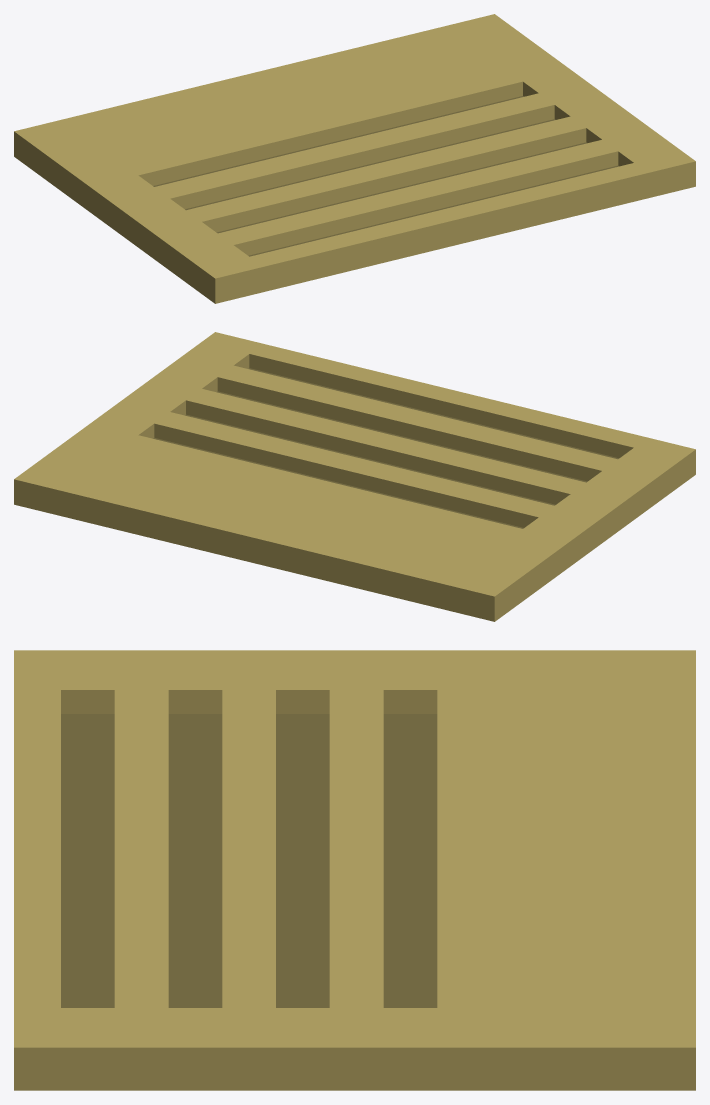
Rendered from Bar-BeerTap-base.fbx.
The picture shows the model from 3 angles, top to bottom: view 1: azimuth 30°, elevation 25°; view 2: azimuth 150°, elevation 25°; view 3: azimuth 270°, elevation 25°; orthographic projection. The views are drawn at different scales.
Parts seen in each view (by area): view 1: Beertaps_Base_Mid, Beertaps_Base_Right, Beertaps_Base_Left; view 2: Beertaps_Base_Mid, Beertaps_Base_Right, Beertaps_Base_Left; view 3: Beertaps_Base_Mid, Beertaps_Base_Left, Beertaps_Base_Right.
Part boxes in pixels (left/top/right/bottom): Beertaps_Base_Mid: left=113, top=38, right=597, bottom=279; Beertaps_Base_Right: left=14, top=107, right=313, bottom=303; Beertaps_Base_Left: left=396, top=14, right=695, bottom=210; Beertaps_Base_Mid: left=112, top=356, right=596, bottom=597; Beertaps_Base_Right: left=396, top=425, right=695, bottom=621; Beertaps_Base_Left: left=14, top=332, right=313, bottom=528; Beertaps_Base_Mid: left=14, top=731, right=695, bottom=990; Beertaps_Base_Left: left=14, top=966, right=695, bottom=1090; Beertaps_Base_Right: left=14, top=650, right=695, bottom=755.
Size of the model in its own units: 0.4 by 0.0202 by 0.29.
